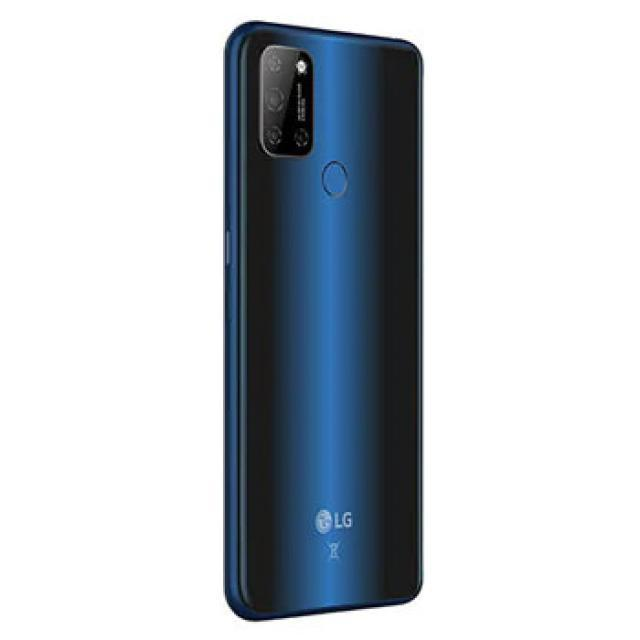Phone: (218, 22, 424, 622)
